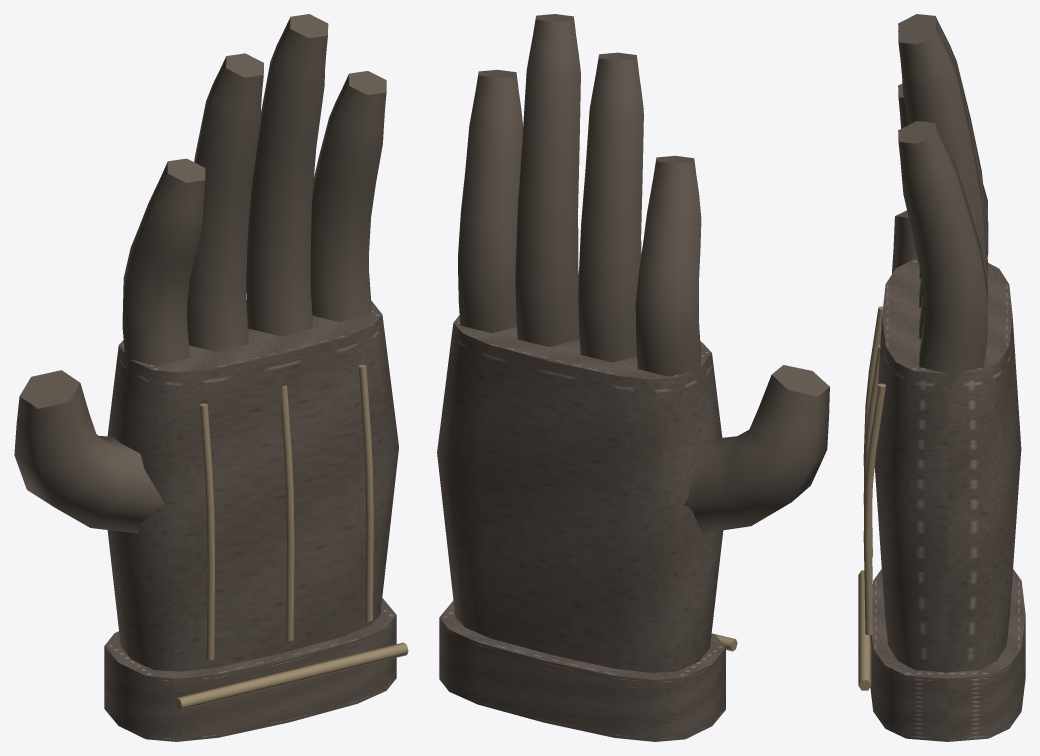
Rendered from thief_glove.obj.
3 renders of one model, left to right at view 1: azimuth 30°, elevation 25°; view 2: azimuth 150°, elevation 25°; view 3: azimuth 270°, elevation 25°, orthographic.
Visible parts, largest first — view 1: A_Palm.001_thief_glove_leather, B_Finger2.001_thief_glove_finger_leather, D_TurnedCuff.001_thief_glove_leather, B_Finger1.001_thief_glove_finger_leather, C_Thumb.001_thief_glove_finger_leather, B_Finger3.001_thief_glove_finger_leather, B_Finger0.001_thief_glove_finger_leather, E_CuffSeam.001_thief_glove_cut_edges, E_BackStitch0.002_thief_glove_cut_edges, E_BackStitch-0.001_thief_glove_cut_edges, E_BackStitch0.001_thief_glove_cut_edges; view 2: A_Palm.001_thief_glove_leather, D_TurnedCuff.001_thief_glove_leather, B_Finger2.001_thief_glove_finger_leather, B_Finger1.001_thief_glove_finger_leather, C_Thumb.001_thief_glove_finger_leather, B_Finger3.001_thief_glove_finger_leather, B_Finger0.001_thief_glove_finger_leather; view 3: A_Palm.001_thief_glove_leather, B_Finger3.001_thief_glove_finger_leather, D_TurnedCuff.001_thief_glove_leather, B_Finger2.001_thief_glove_finger_leather, E_BackStitch0.002_thief_glove_cut_edges, E_CuffSeam.001_thief_glove_cut_edges, B_Finger1.001_thief_glove_finger_leather, C_Thumb.001_thief_glove_finger_leather, E_BackStitch-0.001_thief_glove_cut_edges, E_BackStitch0.001_thief_glove_cut_edges, B_Finger0.001_thief_glove_finger_leather.
Part boxes in pixels (box(x1,y1,x2,y2)): A_Palm.001_thief_glove_leather: box(107, 300, 398, 671); B_Finger2.001_thief_glove_finger_leather: box(246, 14, 328, 336); D_TurnedCuff.001_thief_glove_leather: box(104, 598, 396, 741); B_Finger1.001_thief_glove_finger_leather: box(187, 53, 263, 351); C_Thumb.001_thief_glove_finger_leather: box(14, 370, 164, 533); B_Finger3.001_thief_glove_finger_leather: box(310, 71, 386, 321); B_Finger0.001_thief_glove_finger_leather: box(122, 158, 205, 378); E_CuffSeam.001_thief_glove_cut_edges: box(175, 642, 408, 710); E_BackStitch0.002_thief_glove_cut_edges: box(359, 364, 373, 621); E_BackStitch-0.001_thief_glove_cut_edges: box(200, 403, 214, 660); E_BackStitch0.001_thief_glove_cut_edges: box(281, 385, 294, 640); A_Palm.001_thief_glove_leather: box(437, 315, 723, 672); D_TurnedCuff.001_thief_glove_leather: box(439, 600, 725, 741); B_Finger2.001_thief_glove_finger_leather: box(515, 14, 580, 346); B_Finger1.001_thief_glove_finger_leather: box(578, 52, 643, 362); C_Thumb.001_thief_glove_finger_leather: box(684, 365, 829, 533); B_Finger3.001_thief_glove_finger_leather: box(458, 69, 522, 333); B_Finger0.001_thief_glove_finger_leather: box(635, 155, 702, 387); A_Palm.001_thief_glove_leather: box(874, 259, 1021, 672); B_Finger3.001_thief_glove_finger_leather: box(898, 121, 987, 393); D_TurnedCuff.001_thief_glove_leather: box(870, 569, 1025, 741); B_Finger2.001_thief_glove_finger_leather: box(898, 21, 987, 338); E_BackStitch0.002_thief_glove_cut_edges: box(863, 383, 885, 635); E_CuffSeam.001_thief_glove_cut_edges: box(858, 570, 871, 690); B_Finger1.001_thief_glove_finger_leather: box(898, 14, 987, 307); C_Thumb.001_thief_glove_finger_leather: box(892, 210, 917, 273); E_BackStitch-0.001_thief_glove_cut_edges: box(863, 306, 882, 557); E_BackStitch0.001_thief_glove_cut_edges: box(863, 345, 880, 595); B_Finger0.001_thief_glove_finger_leather: box(898, 83, 988, 278).
Bounding box in the file's own units: 0.9837 × 1.7 × 0.385.
Materials: 3 (1 with a texture image).
